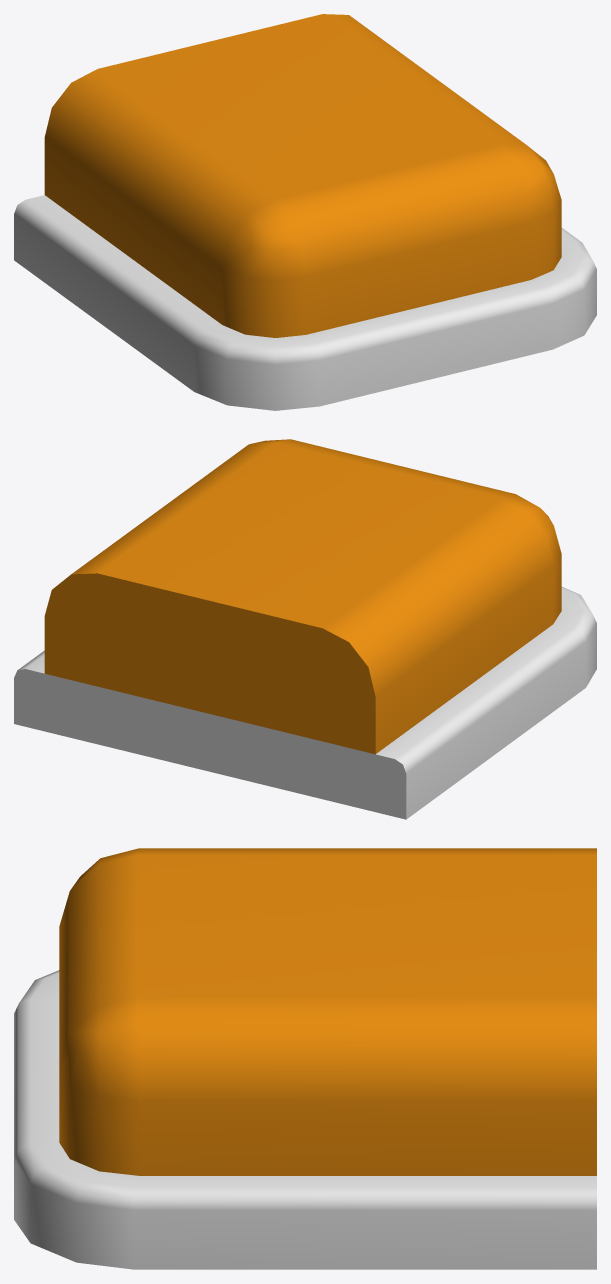
File: Wall_Island_Cut.fbx
The picture shows the model from 3 angles, top to bottom: view 1: azimuth 30°, elevation 25°; view 2: azimuth 150°, elevation 25°; view 3: azimuth 270°, elevation 25°; orthographic projection. The views are drawn at different scales.
Parts seen in each view (by area): view 1: Wall_Island_Cut; view 2: Wall_Island_Cut; view 3: Wall_Island_Cut.
Part boxes in pixels (bbox=[...]): Wall_Island_Cut: bbox=[14, 14, 596, 410]; Wall_Island_Cut: bbox=[14, 439, 596, 819]; Wall_Island_Cut: bbox=[14, 848, 596, 1269].
Bounding box in the file's own units: 70.84 × 29.51 × 70.77.
